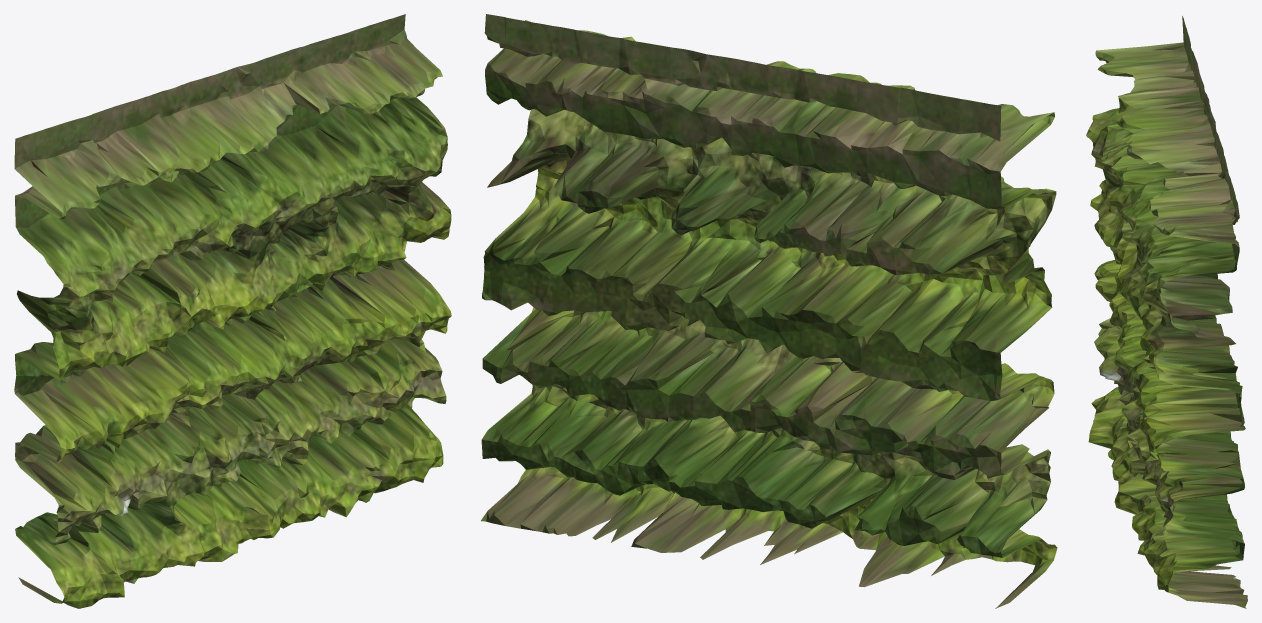
File: map_50_50.obj
The picture shows the model from 3 angles, left to right: view 1: azimuth 30°, elevation 25°; view 2: azimuth 150°, elevation 25°; view 3: azimuth 270°, elevation 25°; orthographic projection. The views are drawn at different scales.
Parts seen in each view (by area): view 1: grp1; view 2: grp1; view 3: grp1.
Boxes of the visible parts, x1,y1,x2,y2 form: grp1: [14, 14, 451, 608]; grp1: [481, 14, 1057, 608]; grp1: [1086, 16, 1247, 608].
Bounding box in the file's own units: 10 × 10 × 3.61.
Materials: 1 (1 with a texture image).
